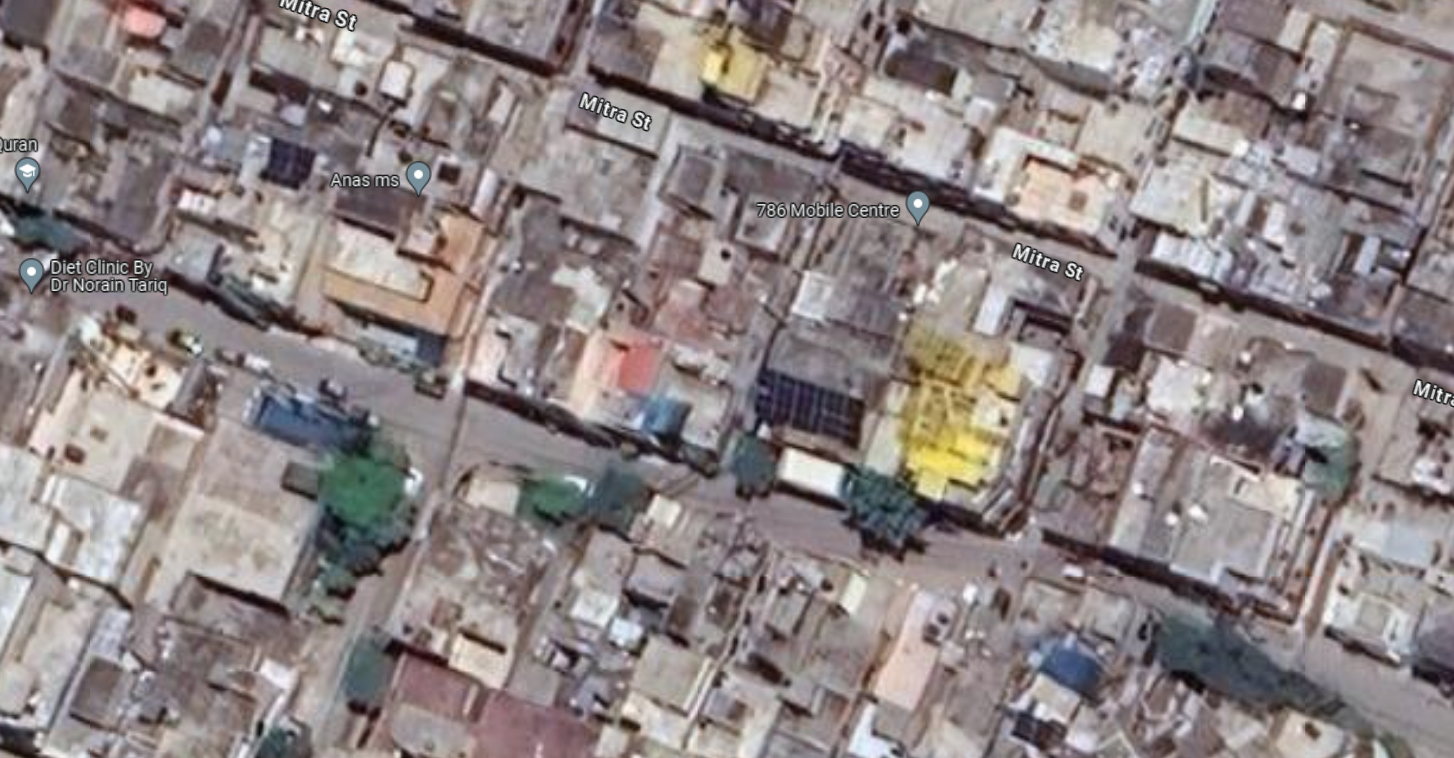solar-panel: (755, 366, 873, 447), (260, 140, 327, 193)
